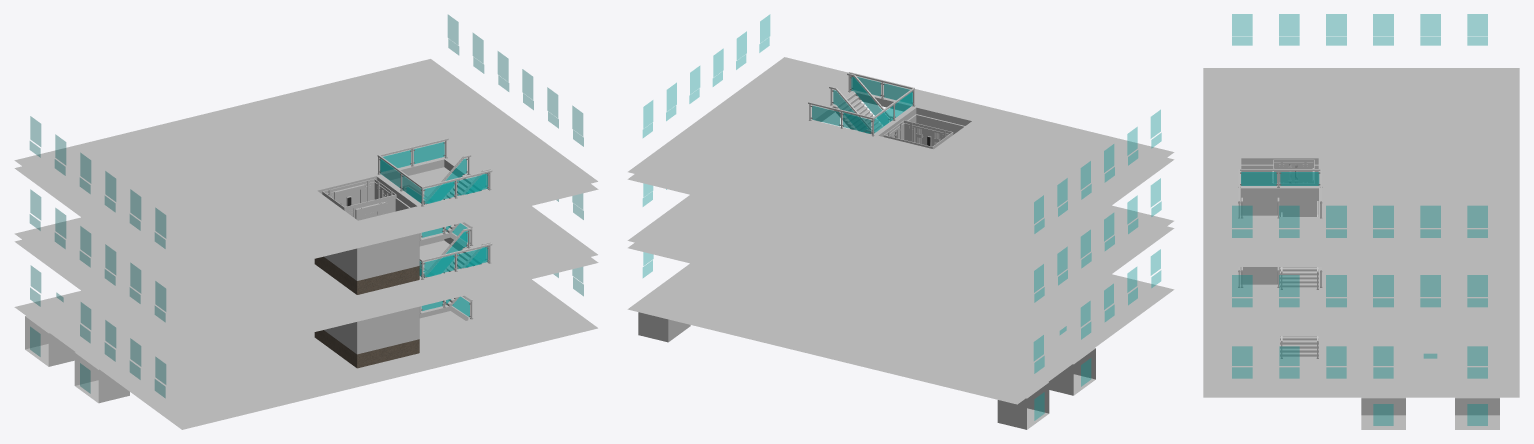
Rendered from Building06_V3_Interior01.fbx.
The picture shows the model from 3 angles, left to right: view 1: azimuth 30°, elevation 25°; view 2: azimuth 150°, elevation 25°; view 3: azimuth 270°, elevation 25°; orthographic projection. The views are drawn at different scales.
Parts seen in each view (by area): view 1: Building06_V3_Interior01; view 2: Building06_V3_Interior01; view 3: Building06_V3_Interior01.
Part boxes in pixels (x1,y1,x2,y2): Building06_V3_Interior01: [14, 15, 598, 429]; Building06_V3_Interior01: [627, 15, 1174, 429]; Building06_V3_Interior01: [1203, 14, 1519, 429].
Size of the model in its own units: 2421 by 1318 by 1681.
